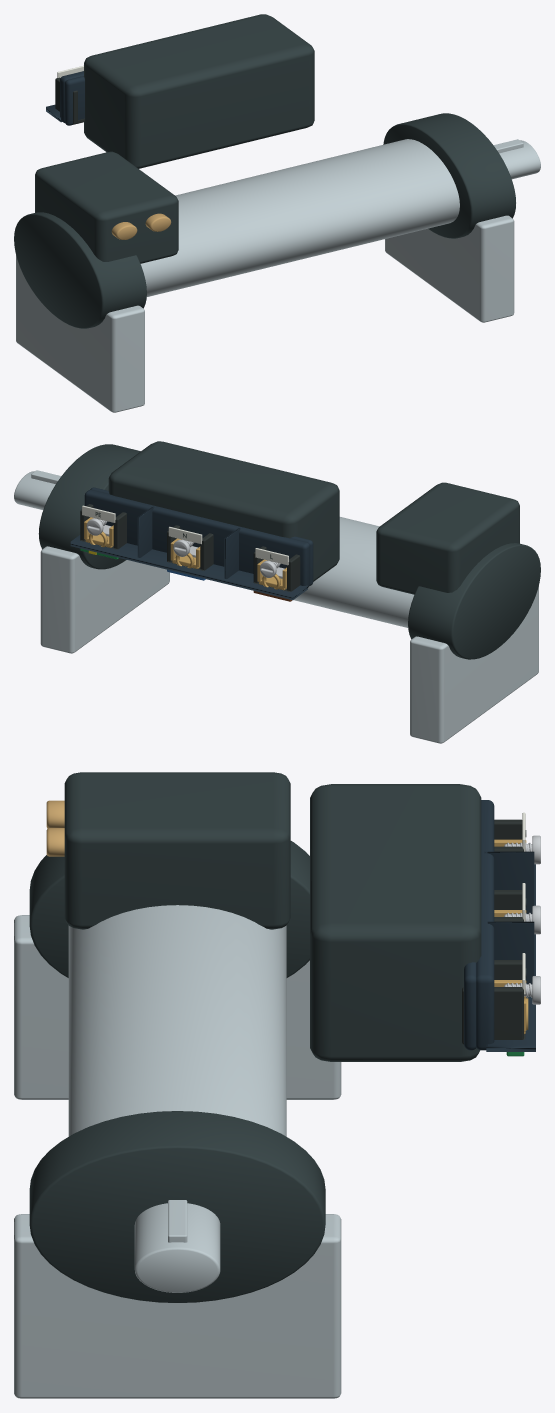
The model's file is motor_shutter.glb.
3 views of the same model, one above another, from view 1: azimuth 30°, elevation 25°; view 2: azimuth 150°, elevation 25°; view 3: azimuth 270°, elevation 25° (orthographic). The views are drawn at different scales.
Visible parts, largest first — view 1: part:body · Machinery thermoplastic, Tubular shutter motor, part:mounting · Machined steel, motion:shutter-shaft · Machined steel, part:terminals · Original a463fd81, part:mounting · Machinery brass; view 2: part:body · Machinery thermoplastic, part:mounting · Machined steel, part:terminals · Original a463fd81, Tubular shutter motor, motion:shutter-shaft · Machined steel, detail:terminal-clamp:L · Detail moulded engineering polymer, detail:terminal-clamp:PE · Detail moulded engineering polyme, detail:terminal-clamp:N · Detail moulded engineering polymer, detail:terminal-clamp:N · Detail machined brass, detail:terminal-clamp:PE · Detail machined brass, detail:terminal-clamp:L · Detail machined brass; view 3: part:body · Machinery thermoplastic, part:mounting · Machined steel, Tubular shutter motor, part:terminals · Original a463fd81, motion:shutter-shaft · Machined steel, detail:terminal-clamp:PE · Detail moulded engineering polyme, part:mounting · Machinery brass, detail:terminal-clamp:L · Detail moulded engineering polymer, detail:terminal-clamp:N · Detail moulded engineering polymer.
Part boxes in pixels (<box>): part:body · Machinery thermoplastic: <box>14,14,515,328</box>; Tubular shutter motor: <box>140,139,459,296</box>; part:mounting · Machined steel: <box>16,215,514,412</box>; motion:shutter-shaft · Machined steel: <box>494,139,540,179</box>; part:terminals · Original a463fd81: <box>46,71,84,125</box>; part:mounting · Machinery brass: <box>111,213,171,239</box>; part:body · Machinery thermoplastic: <box>38,441,540,659</box>; part:mounting · Machined steel: <box>40,546,538,743</box>; part:terminals · Original a463fd81: <box>70,487,313,600</box>; Tubular shutter motor: <box>294,517,414,627</box>; motion:shutter-shaft · Machined steel: <box>14,470,61,509</box>; detail:terminal-clamp:L · Detail moulded engineering polymer: <box>253,546,300,591</box>; detail:terminal-clamp:PE · Detail moulded engineering polyme: <box>80,504,126,549</box>; detail:terminal-clamp:N · Detail moulded engineering polymer: <box>167,525,213,570</box>; detail:terminal-clamp:N · Detail machined brass: <box>170,538,200,568</box>; detail:terminal-clamp:PE · Detail machined brass: <box>84,517,113,547</box>; detail:terminal-clamp:L · Detail machined brass: <box>257,559,286,590</box>; part:body · Machinery thermoplastic: <box>29,772,481,1302</box>; part:mounting · Machined steel: <box>14,915,341,1398</box>; Tubular shutter motor: <box>68,905,286,1136</box>; part:terminals · Original a463fd81: <box>464,800,535,1051</box>; motion:shutter-shaft · Machined steel: <box>134,1200,220,1292</box>; detail:terminal-clamp:PE · Detail moulded engineering polyme: <box>462,960,525,1044</box>; part:mounting · Machinery brass: <box>46,800,64,856</box>; detail:terminal-clamp:L · Detail moulded engineering polymer: <box>494,819,523,851</box>; detail:terminal-clamp:N · Detail moulded engineering polymer: <box>494,890,523,921</box>.
Bounding box in the file's own units: 1.63 × 0.7655 × 0.9549.
